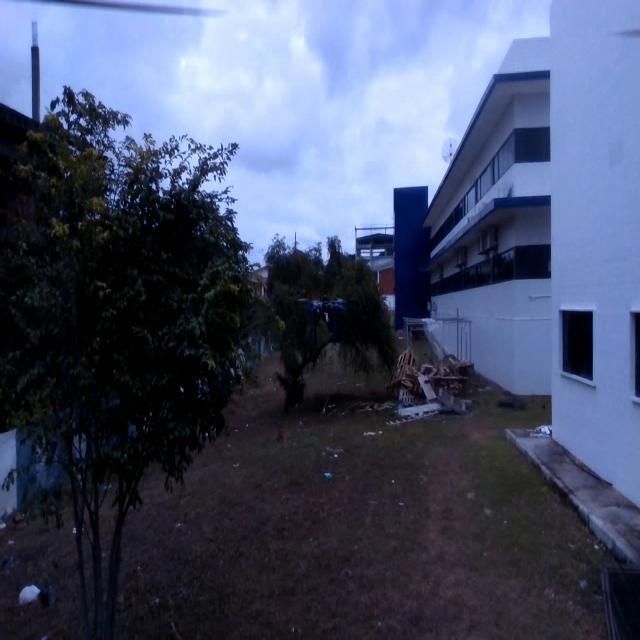-uav-: (285, 276, 367, 357)
